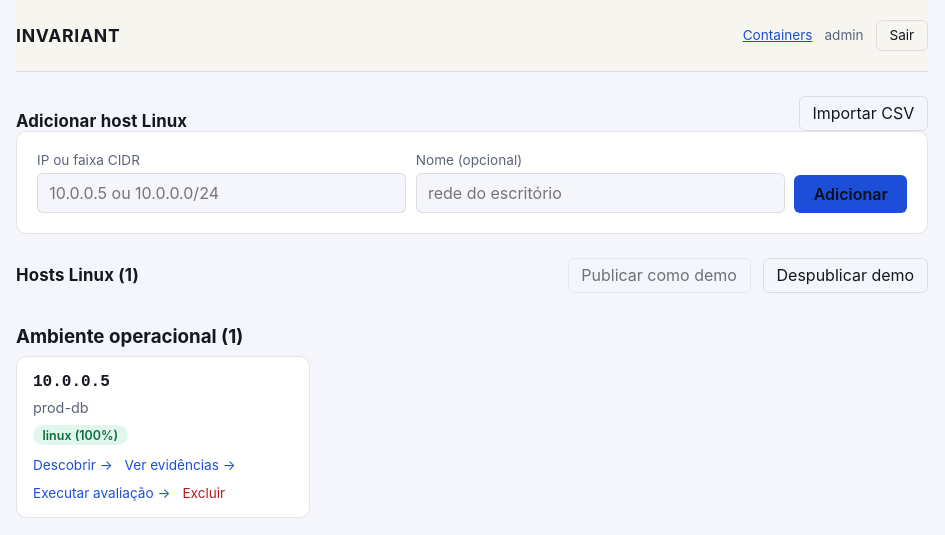
Test: Endpoints -- painel admin de publicação da demo › avaliar com sucesso um host sem is_demo não habilita "Publicar como demo" (só ativos do Ambiente demonstrativo entram no lote)
Expected: the button "Importar CSV" is shown, [799,96,928,131]
Click the button "Executar avaliação →" at (102, 493), box [33,485,170,501]
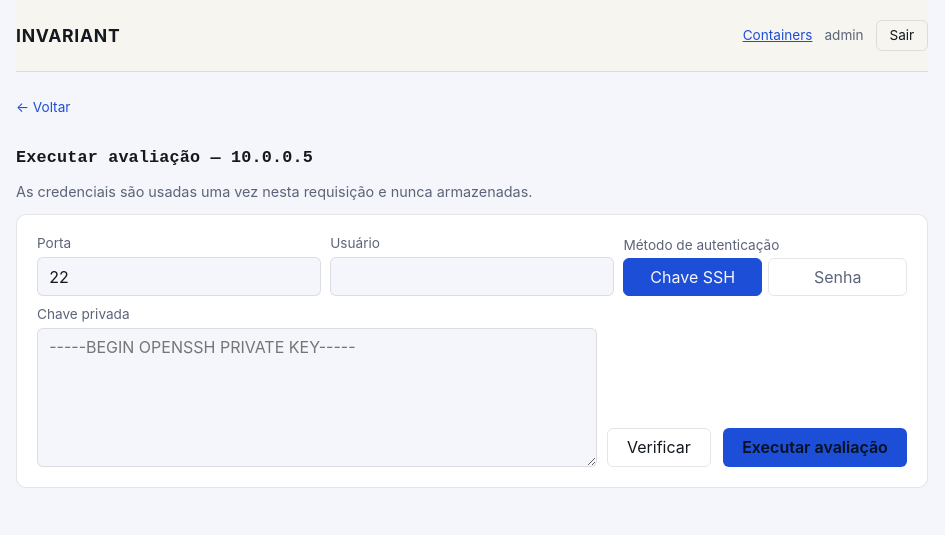
Expected: the field labelled "Usuário" is shown
Type "demo-lab" into the field labelled "Usuário" at (472, 277), box [330,257,614,296]
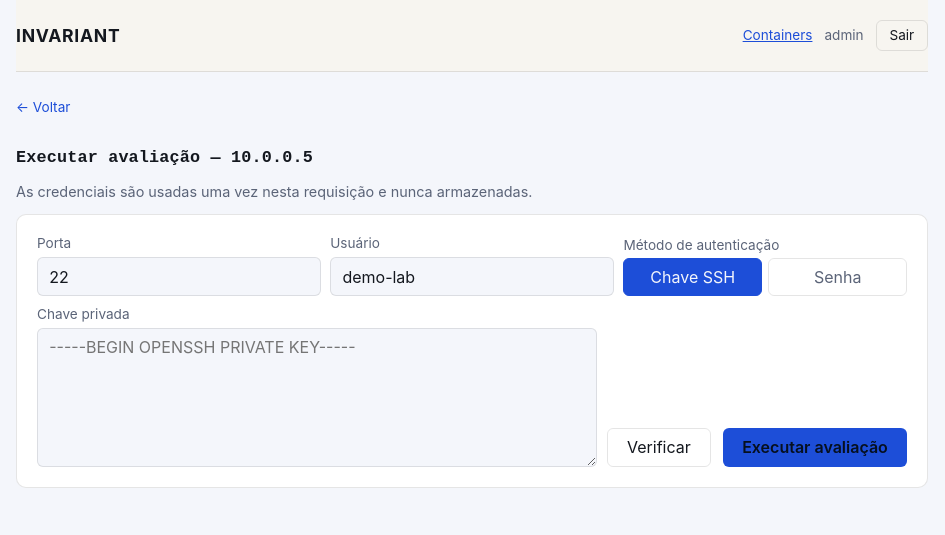
Click the button "Senha" at (838, 277), box [768,258,907,296]
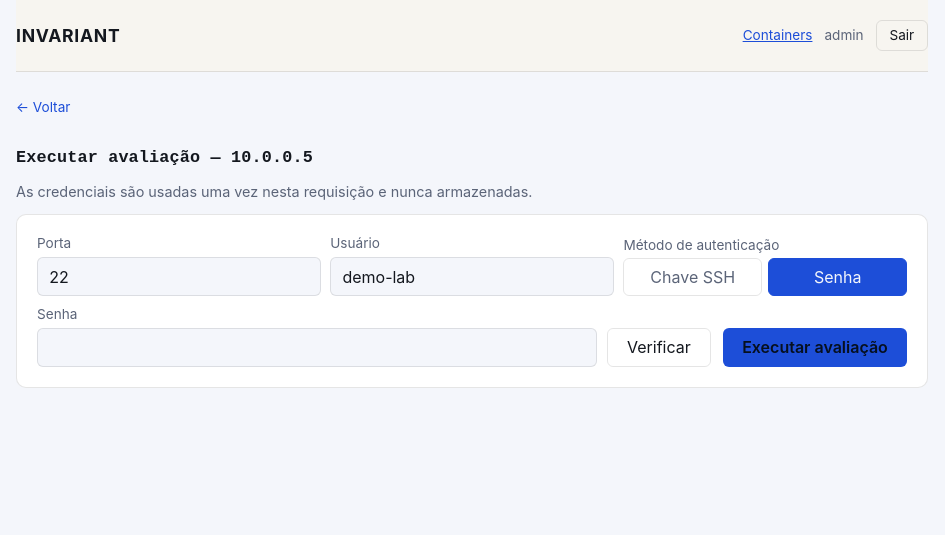
Type "x" into the password field labelled "Senha" at (317, 347), box [37,328,597,367]
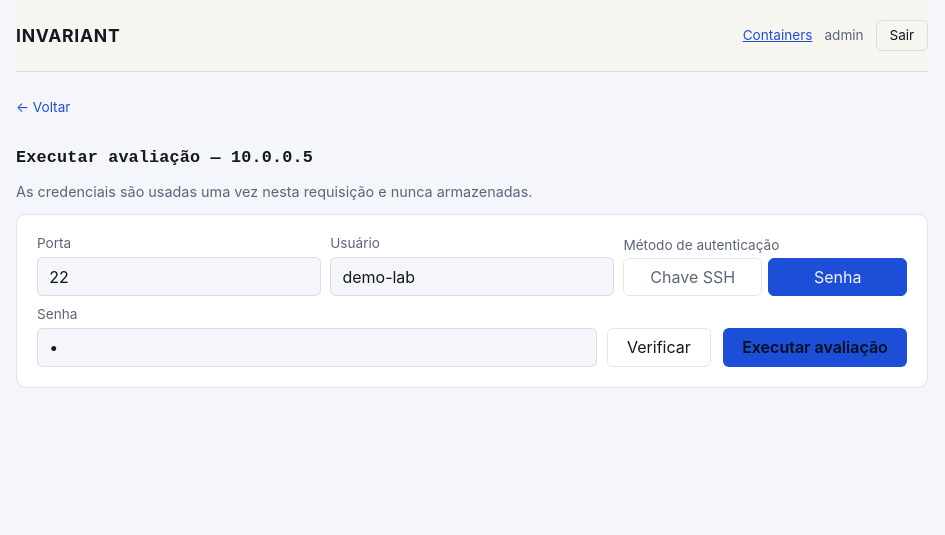
Click the button "Executar avaliação" at (815, 347), box [723,328,907,367]
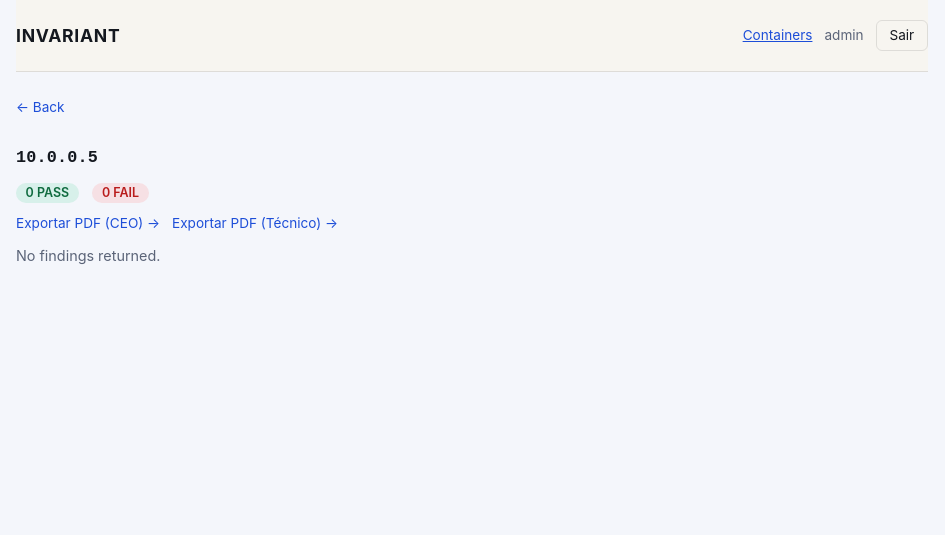
Expected: the button "← Back" is shown
Click the button "← Back" at (40, 107), box [16,99,65,115]
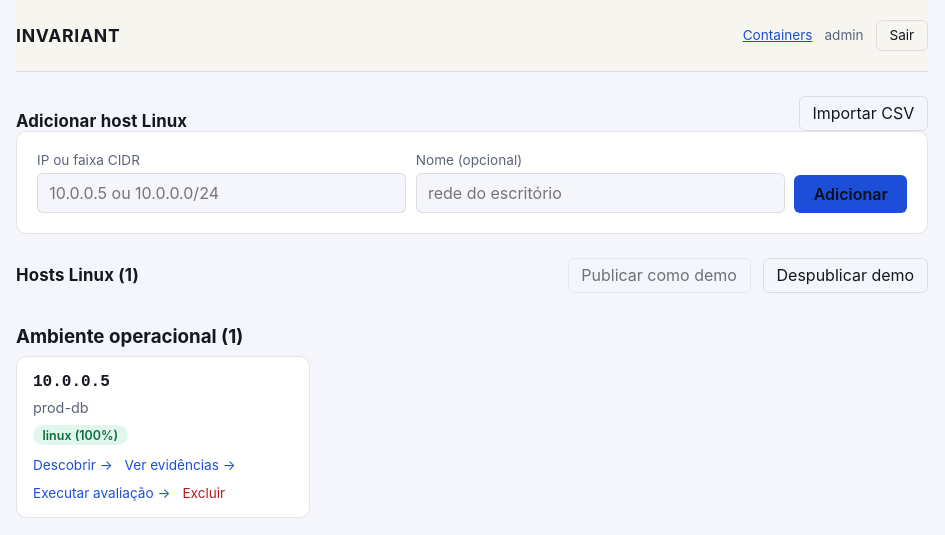
Expected: the button "Publicar como demo" is disabled, [568,258,751,293]
